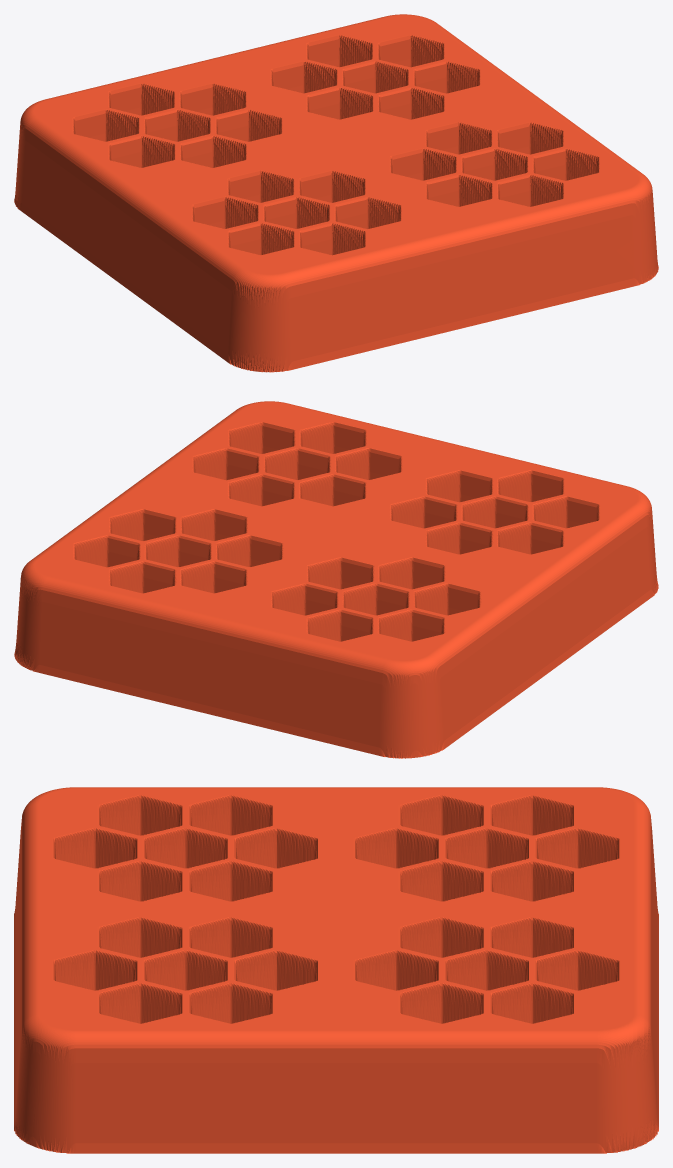
File: mold.glb
3 renders of one model, top to bottom at view 1: azimuth 30°, elevation 25°; view 2: azimuth 150°, elevation 25°; view 3: azimuth 270°, elevation 25°, orthographic. The views are drawn at different scales.
Parts seen in each view (by area): view 1: geometry_0; view 2: geometry_0; view 3: geometry_0.
Part boxes in pixels (box(x1,y1,x2,y2)): geometry_0: box(14, 14, 658, 372); geometry_0: box(14, 401, 658, 758); geometry_0: box(14, 787, 658, 1153).
Size of the model in its own units: 0.0906 by 0.0182 by 0.0942.
